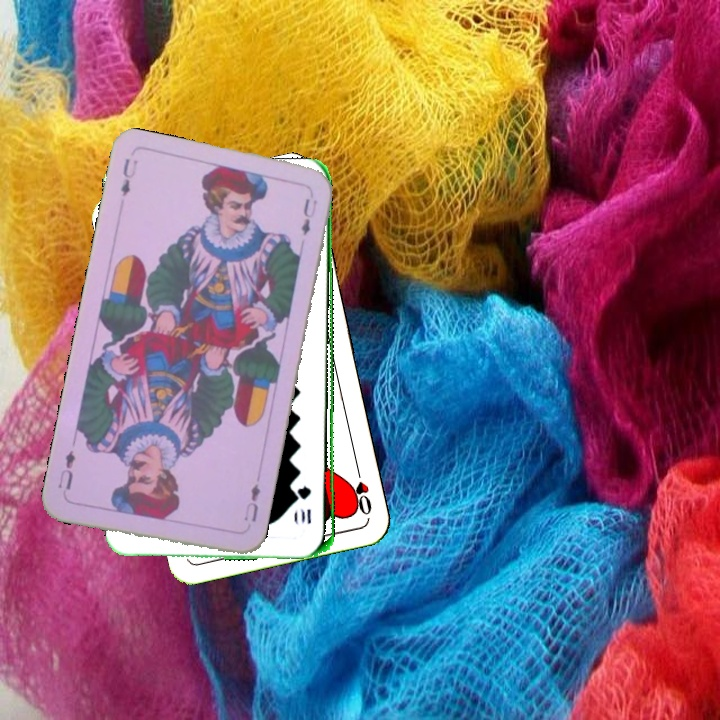EU: (239, 480, 264, 525), (117, 154, 140, 199)
G10: (298, 481, 314, 526)
HO: (349, 460, 375, 518)
